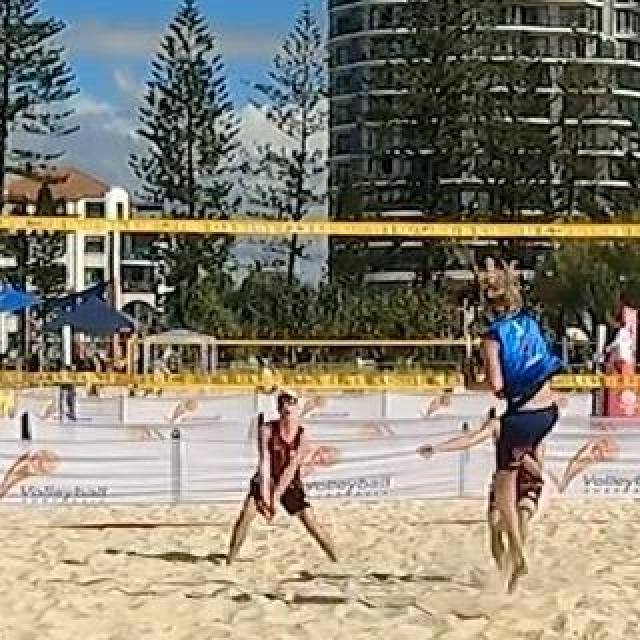volleyball: (255, 367, 281, 395)
